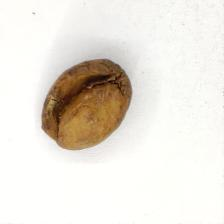NG: (44, 67, 117, 131)
